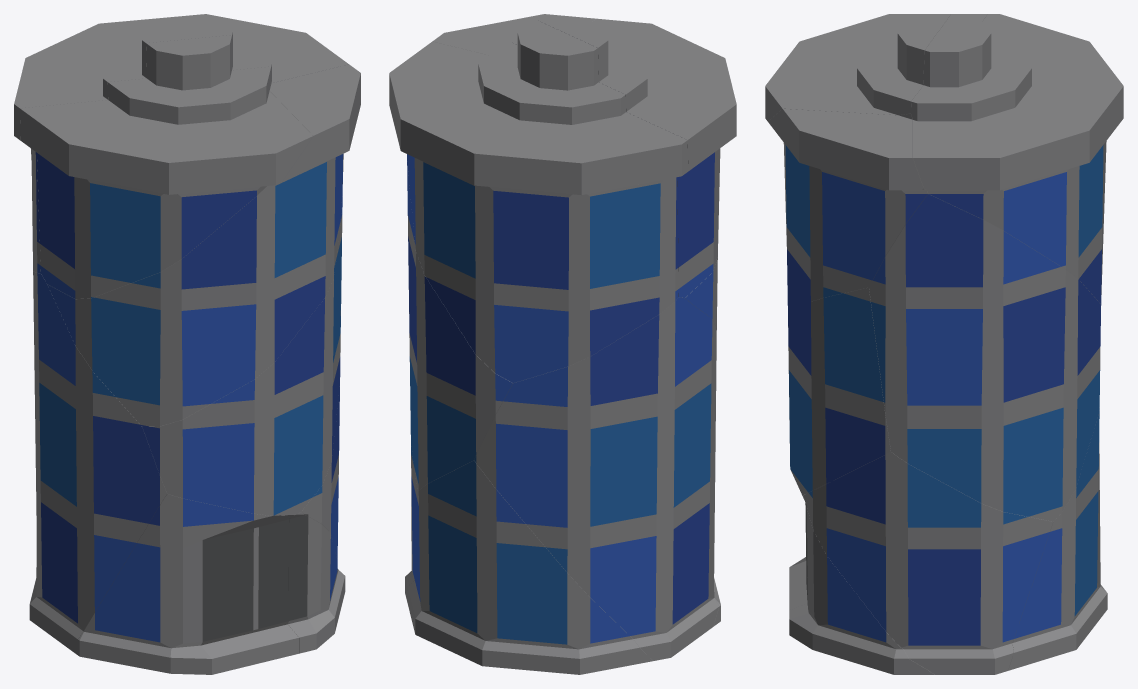
File: HighHouse 2.1 Fractured.fbx
3 views of the same model, side by side, from view 1: azimuth 30°, elevation 25°; view 2: azimuth 150°, elevation 25°; view 3: azimuth 270°, elevation 25° (orthographic).
Parts seen in each view (by area): view 1: HighHouse_2_01_Breaking_cell.009, HighHouse_2_01_Breaking_cell.006, HighHouse_2_01_Breaking_cell.007, HighHouse_2_01_Breaking_cell.008, HighHouse_2_01_Breaking_cell.005, HighHouse_2_01_Breaking_cell.004, HighHouse_2_01_Breaking_cell.001, HighHouse_2_01_Breaking_cell.003; view 2: HighHouse_2_01_Breaking_cell.004, HighHouse_2_01_Breaking_cell.008, HighHouse_2_01_Breaking_cell, HighHouse_2_01_Breaking_cell.009, HighHouse_2_01_Breaking_cell.002, HighHouse_2_01_Breaking_cell.006, HighHouse_2_01_Breaking_cell.003; view 3: HighHouse_2_01_Breaking_cell.002, HighHouse_2_01_Breaking_cell.004, HighHouse_2_01_Breaking_cell.003, HighHouse_2_01_Breaking_cell.006, HighHouse_2_01_Breaking_cell.005, HighHouse_2_01_Breaking_cell.009, HighHouse_2_01_Breaking_cell, HighHouse_2_01_Breaking_cell.001, HighHouse_2_01_Breaking_cell.007.
Part boxes in pixels (bbox=[...]): HighHouse_2_01_Breaking_cell.009: bbox=[20, 35, 312, 298]; HighHouse_2_01_Breaking_cell.006: bbox=[47, 64, 360, 426]; HighHouse_2_01_Breaking_cell.007: bbox=[72, 494, 298, 674]; HighHouse_2_01_Breaking_cell.008: bbox=[29, 271, 167, 650]; HighHouse_2_01_Breaking_cell.005: bbox=[142, 231, 340, 515]; HighHouse_2_01_Breaking_cell.004: bbox=[14, 14, 348, 273]; HighHouse_2_01_Breaking_cell.001: bbox=[288, 512, 345, 653]; HighHouse_2_01_Breaking_cell.003: bbox=[301, 386, 339, 559]; HighHouse_2_01_Breaking_cell.004: bbox=[389, 20, 688, 382]; HighHouse_2_01_Breaking_cell.008: bbox=[474, 297, 718, 660]; HighHouse_2_01_Breaking_cell: bbox=[406, 460, 652, 674]; HighHouse_2_01_Breaking_cell.009: bbox=[512, 16, 736, 298]; HighHouse_2_01_Breaking_cell.002: bbox=[407, 161, 512, 492]; HighHouse_2_01_Breaking_cell.006: bbox=[432, 14, 717, 328]; HighHouse_2_01_Breaking_cell.003: bbox=[405, 444, 417, 598]; HighHouse_2_01_Breaking_cell.002: bbox=[869, 189, 1101, 521]; HighHouse_2_01_Breaking_cell.004: bbox=[911, 14, 1123, 304]; HighHouse_2_01_Breaking_cell.003: bbox=[803, 452, 1052, 674]; HighHouse_2_01_Breaking_cell.006: bbox=[768, 108, 927, 312]; HighHouse_2_01_Breaking_cell.005: bbox=[788, 287, 890, 494]; HighHouse_2_01_Breaking_cell.009: bbox=[765, 14, 987, 121]; HighHouse_2_01_Breaking_cell: bbox=[1008, 414, 1107, 670]; HighHouse_2_01_Breaking_cell.001: bbox=[789, 493, 934, 674]; HighHouse_2_01_Breaking_cell.007: bbox=[789, 503, 807, 610].
Bounding box in the file's own units: 437 × 814 × 459.
